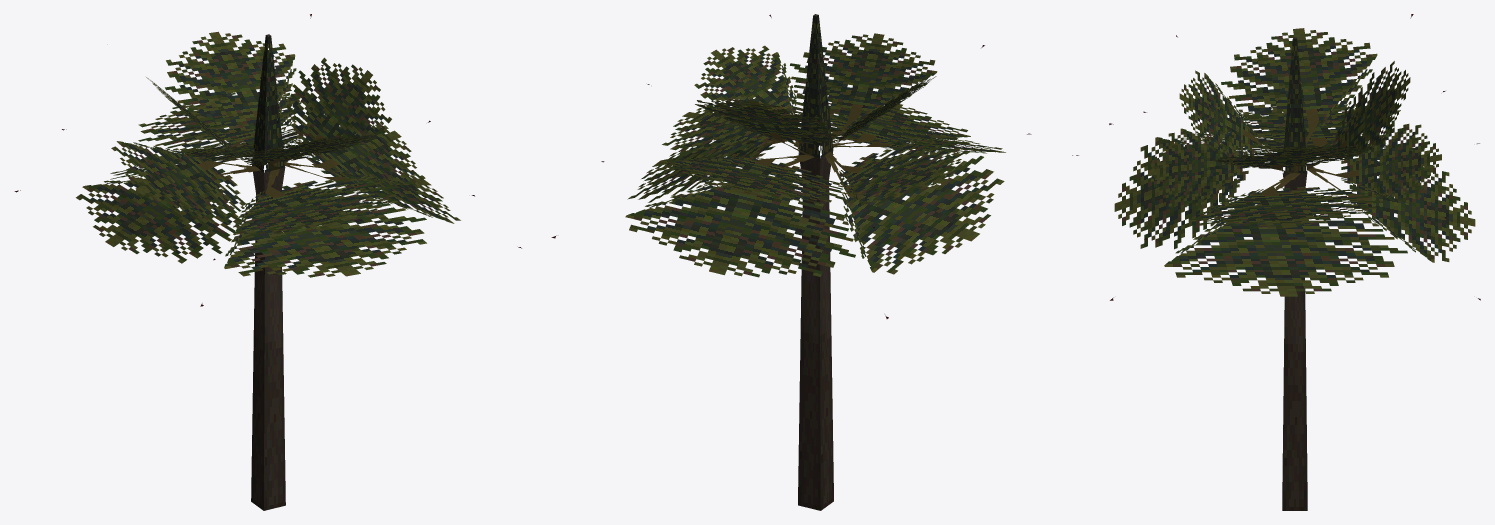
3 renders of one model, left to right at view 1: azimuth 30°, elevation 25°; view 2: azimuth 150°, elevation 25°; view 3: azimuth 270°, elevation 25°, orthographic. The views are drawn at different scales.
Parts seen in each view (by area): view 1: Hk_obj_064; view 2: Hk_obj_064; view 3: Hk_obj_064.
Boxes of the visible parts, x1,y1,x2,y2 form: Hk_obj_064: (14, 14, 521, 510); Hk_obj_064: (551, 14, 1078, 510); Hk_obj_064: (1109, 14, 1480, 510).
Size of the model in its own units: 1.63 by 2.26 by 1.63.
Materials: 2 (2 with a texture image).
